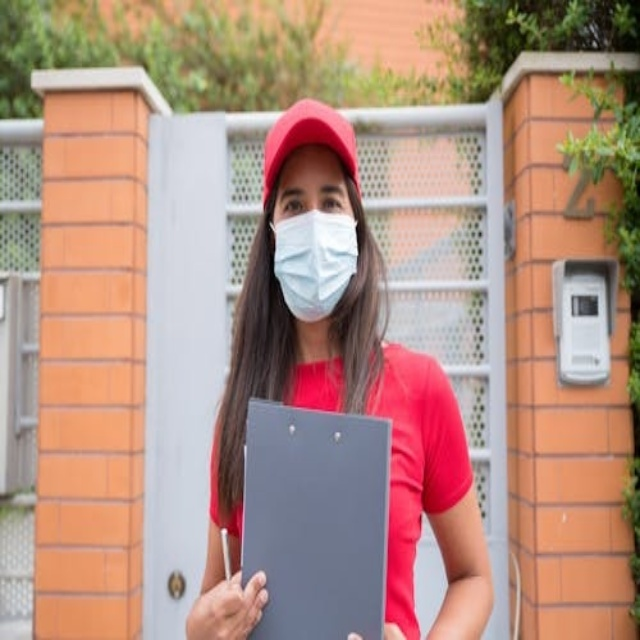Mascara: (271, 207, 360, 320)
Sin_gafas: (279, 177, 351, 221)
Sin_guantes: (193, 567, 268, 640)
